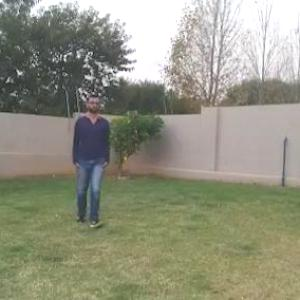follow: (74, 96, 106, 222)
